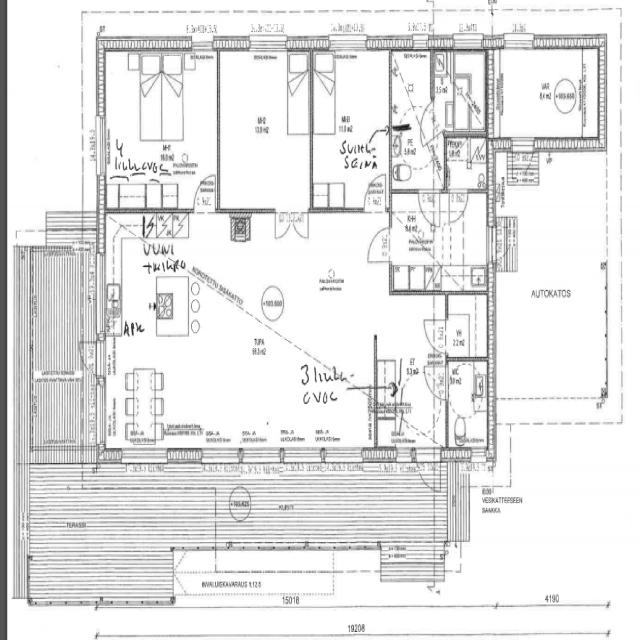door: (273, 204, 312, 244), (362, 169, 389, 215), (364, 223, 391, 268), (192, 171, 218, 213), (414, 450, 439, 492), (422, 362, 448, 402), (446, 186, 470, 228), (510, 138, 537, 175), (420, 316, 446, 353), (416, 188, 438, 228), (78, 338, 98, 370), (87, 370, 107, 398), (421, 98, 437, 129)
window: (319, 445, 367, 474), (121, 444, 165, 474), (246, 29, 288, 55), (93, 111, 108, 177), (326, 34, 371, 55), (502, 33, 535, 51), (466, 448, 488, 474), (395, 448, 414, 469)
zone: (98, 42, 222, 208), (218, 46, 311, 211), (311, 47, 390, 212), (101, 210, 192, 346), (489, 45, 595, 145), (388, 198, 441, 292), (433, 48, 488, 136), (442, 189, 490, 288), (446, 358, 491, 452), (444, 290, 492, 358), (388, 126, 439, 190), (390, 48, 432, 125), (445, 132, 489, 192), (374, 384, 397, 428)
